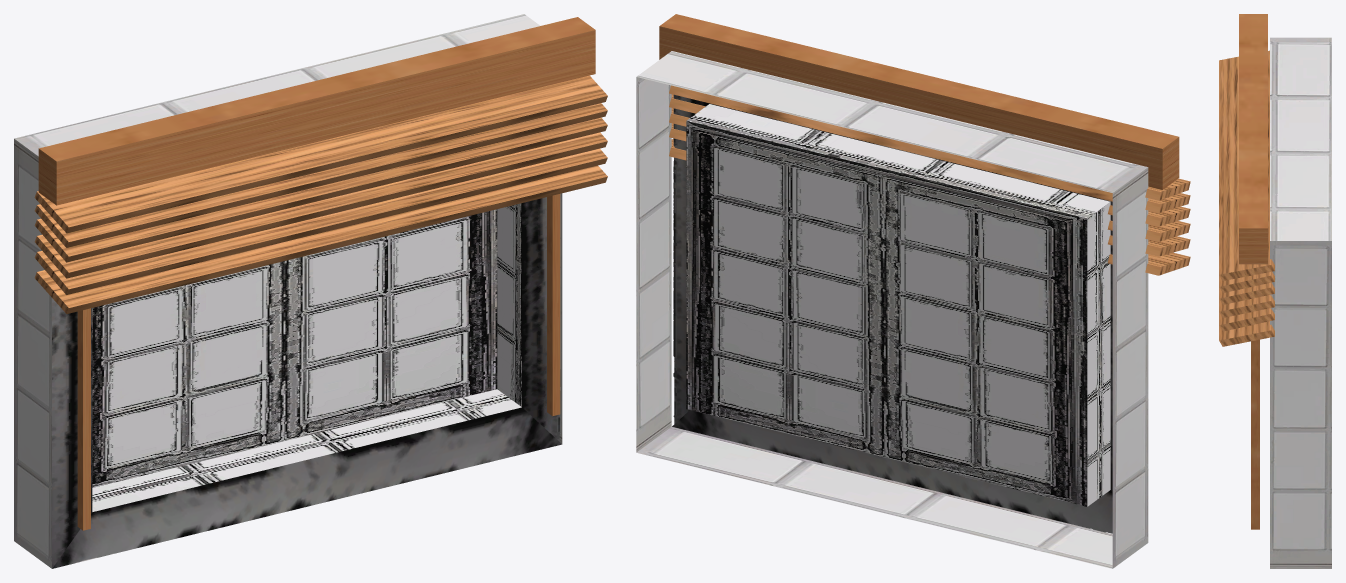
File: Window_Blinds_Open.fbx
3 views of the same model, side by side, from view 1: azimuth 30°, elevation 25°; view 2: azimuth 150°, elevation 25°; view 3: azimuth 270°, elevation 25° (orthographic). The views are drawn at different scales.
Parts seen in each view (by area): view 1: Window_SIll2; view 2: Window_SIll2; view 3: Window_SIll2.
Part boxes in pixels (x1=…): Window_SIll2: x1=14, y1=14, x2=607, y2=568; Window_SIll2: x1=636, y1=14, x2=1190, y2=568; Window_SIll2: x1=1219, y1=14, x2=1331, y2=568.
Bounding box in the file's own units: 153 × 115 × 34.12.
